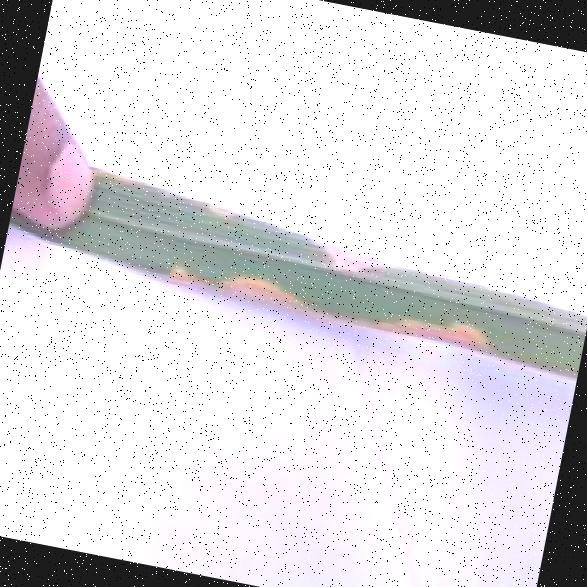Bacteria_Leaf_Blight: (117, 200, 544, 388)
